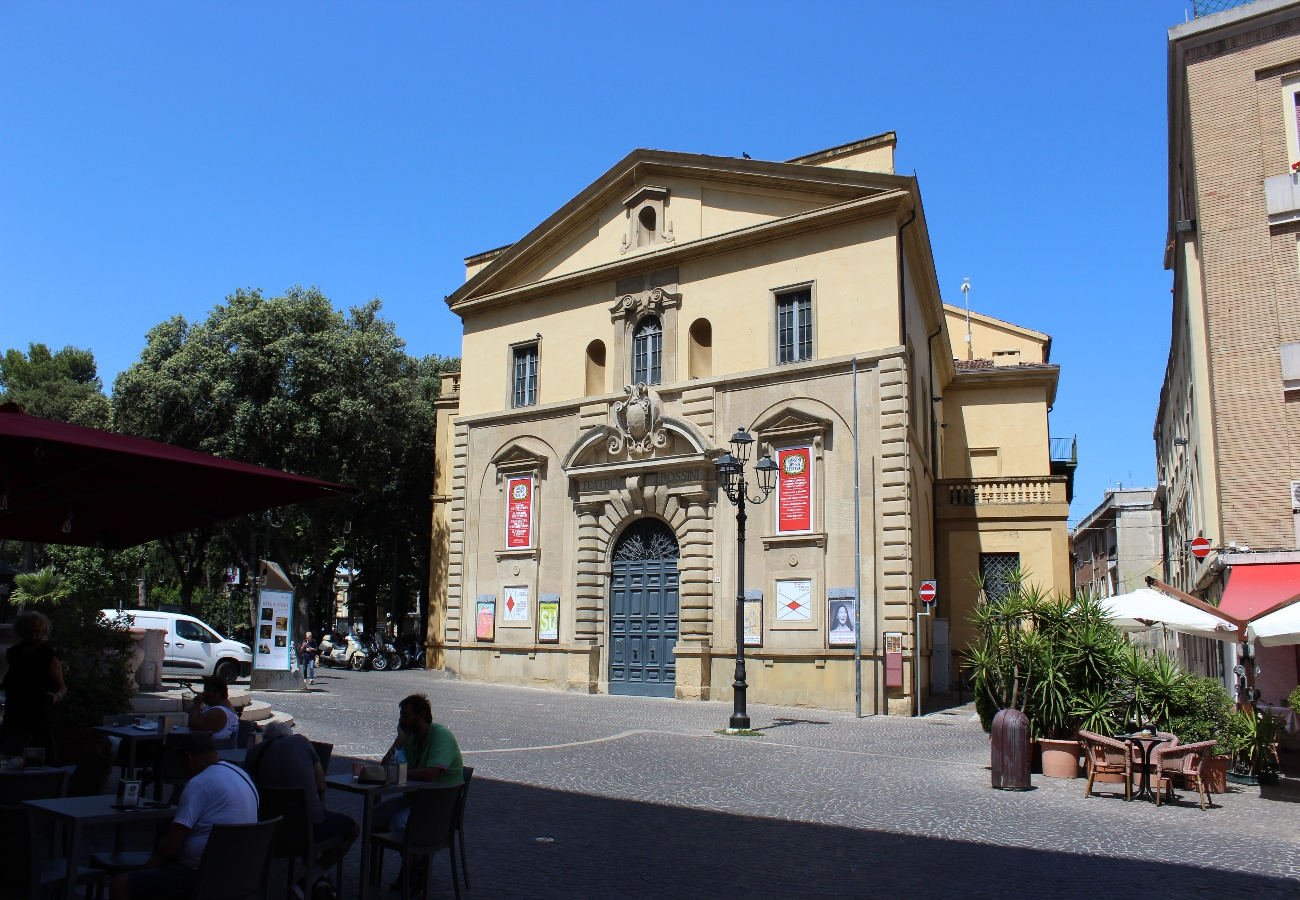Teatro Rossini: (440, 147, 913, 702)
